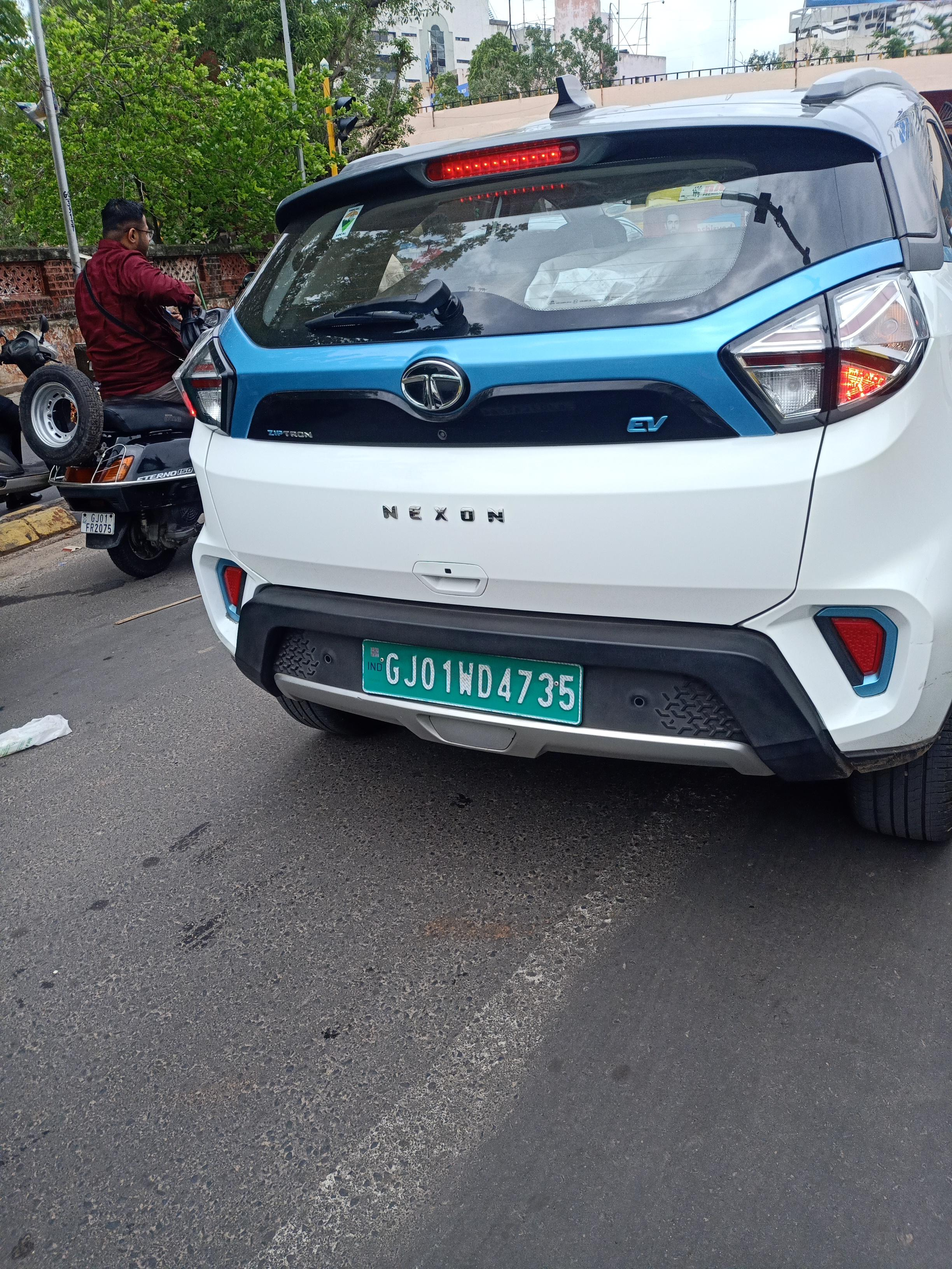green license plate: (358, 639, 587, 727)
